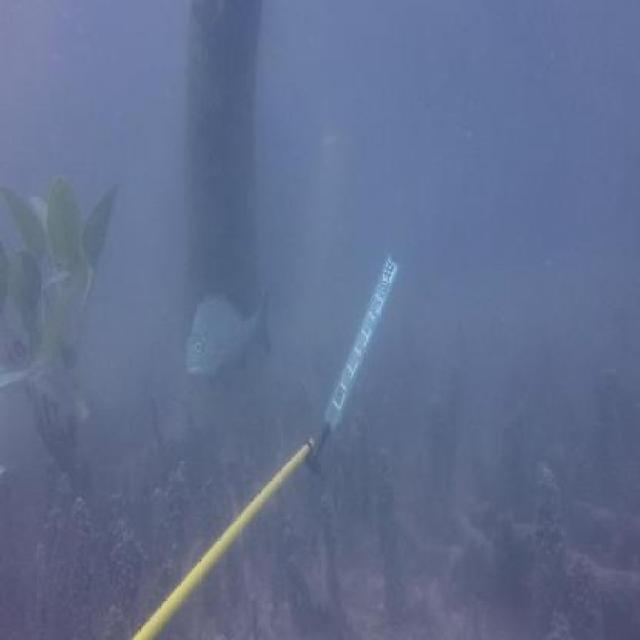Caranx: (2, 281, 92, 433)
acanthopagrus_palmaris: (180, 283, 274, 385)
